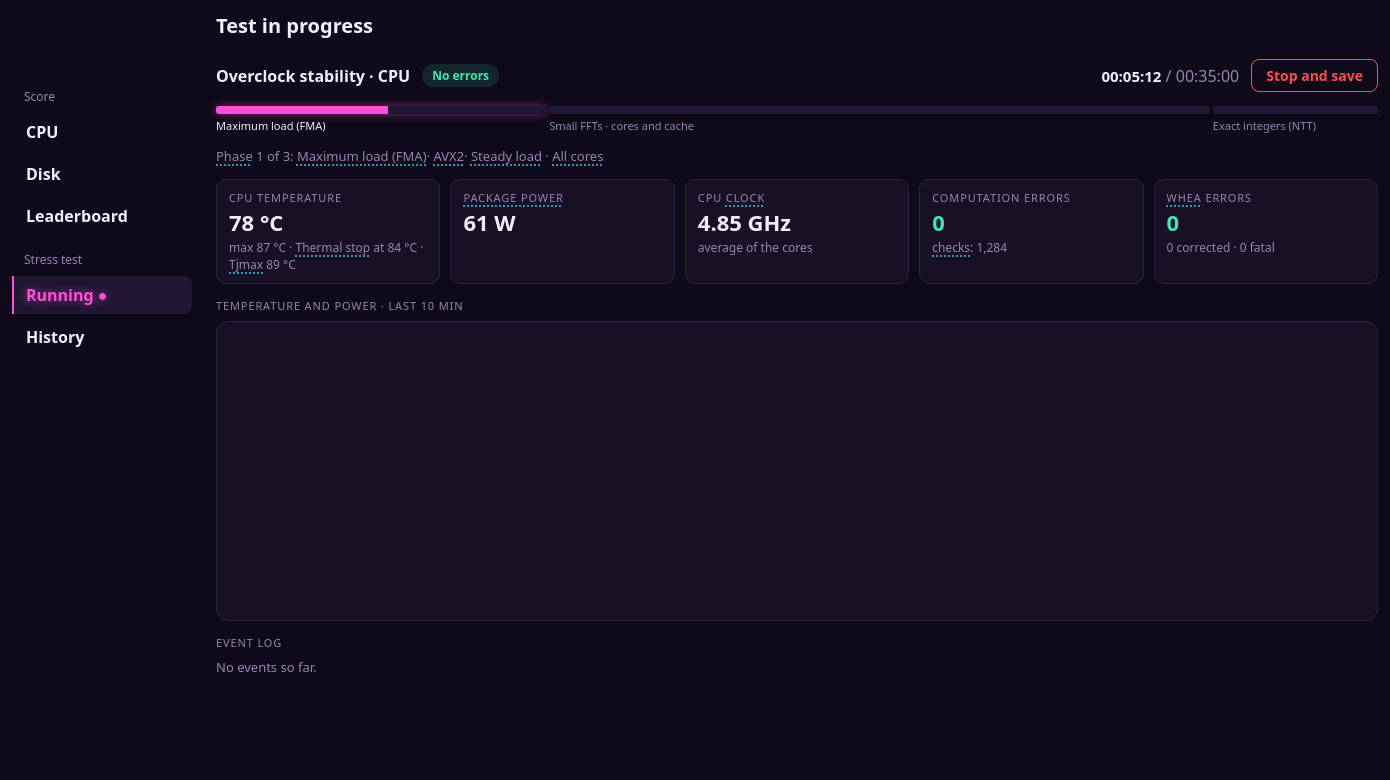
Test: stop_calls_the_backend
The image size is (1390, 780).
Click the button "Stop and save" at (1315, 76), box [1251,59,1378,92]
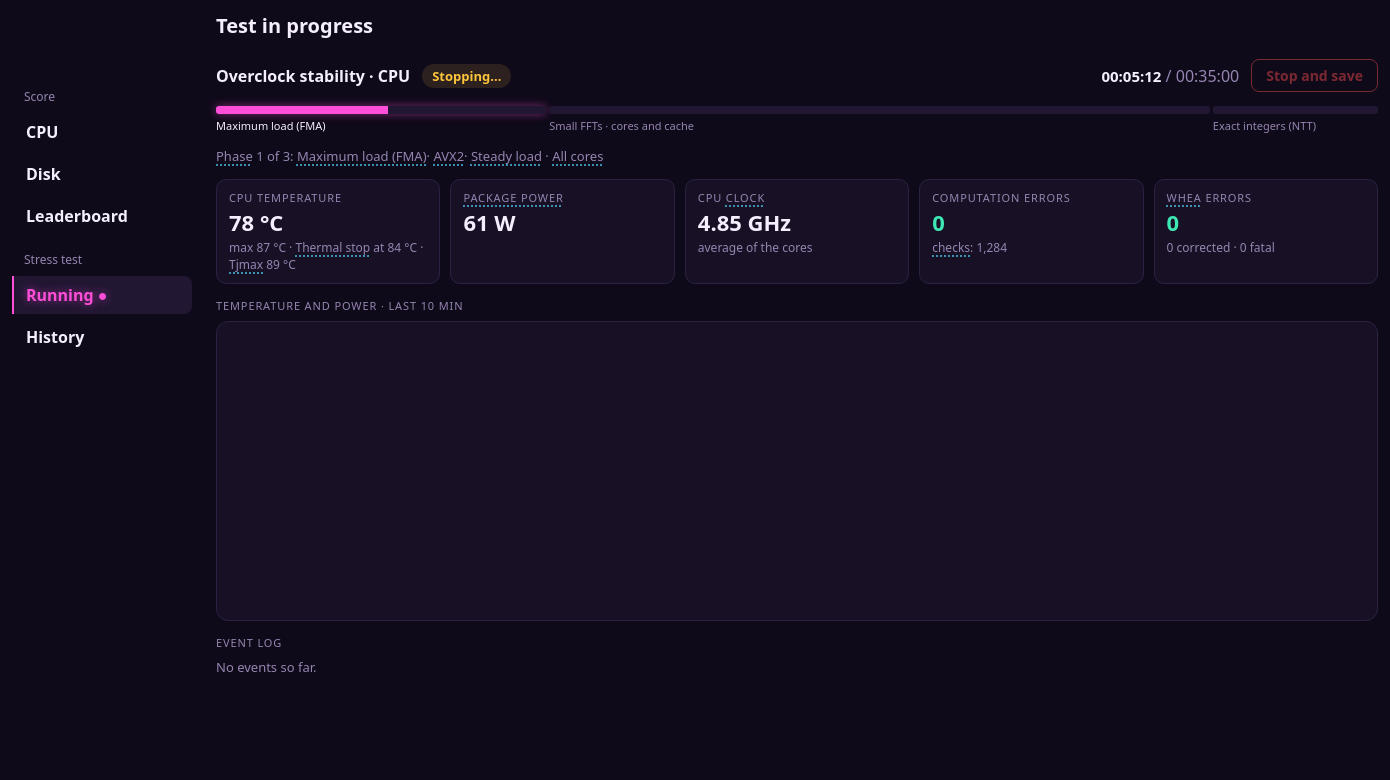
Now the text "Stopping…" is shown, box [422,64,511,88]
Now the button "Stop and save" is disabled, box [1251,59,1378,92]
